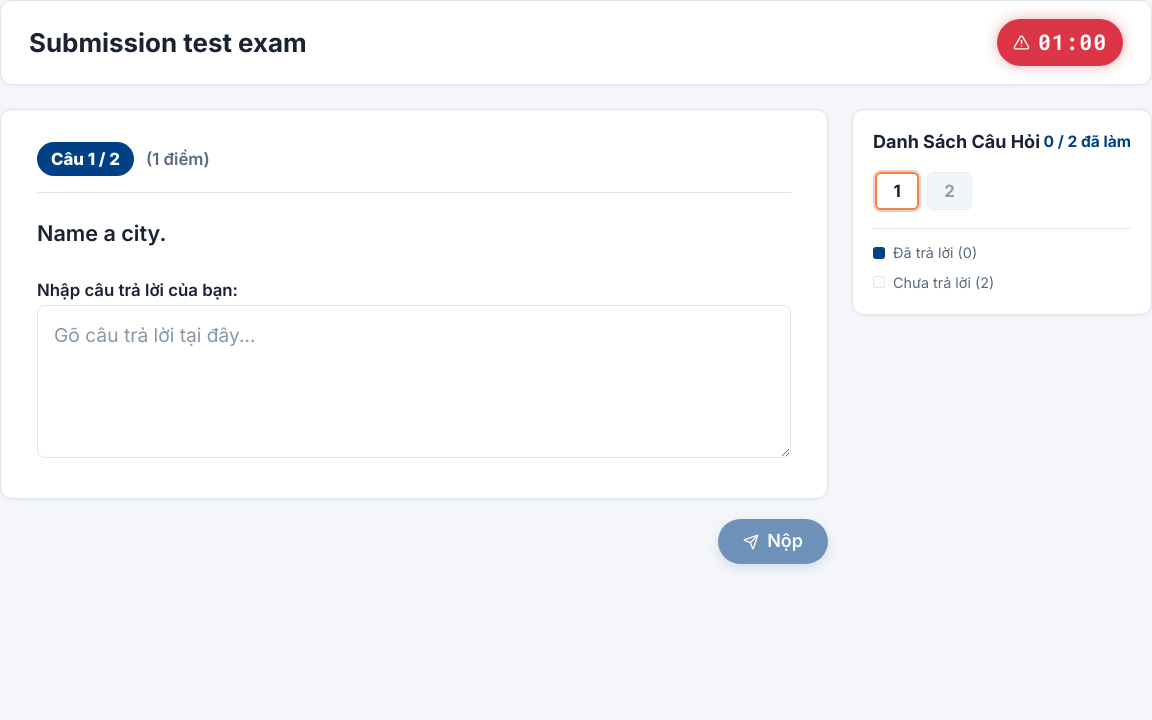
Scenario: SequentialExamTakingView submission flow › enables Nộp immediately for a non-whitespace short answer
Type "Bangkok" into the text box with placeholder "Gõ câu trả lời tại đây..." at (414, 381), box x1=37 y1=305 x2=791 y2=458
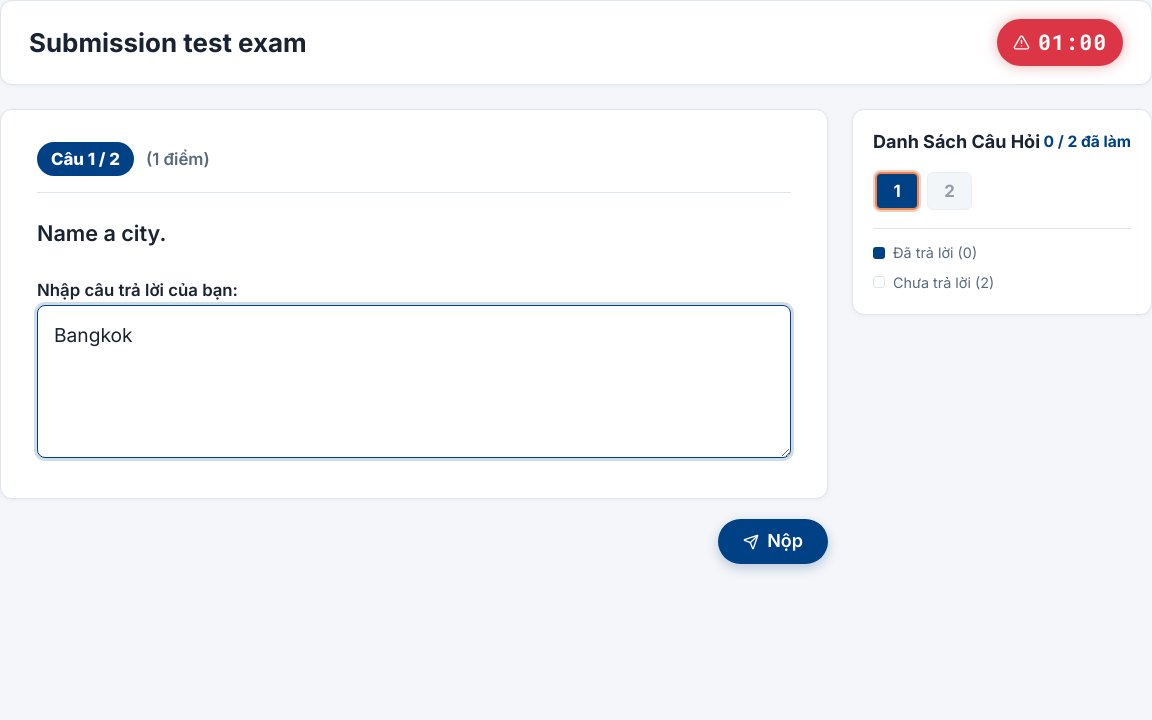
Expected: the button "Nộp" is enabled, x1=718 y1=519 x2=828 y2=564
